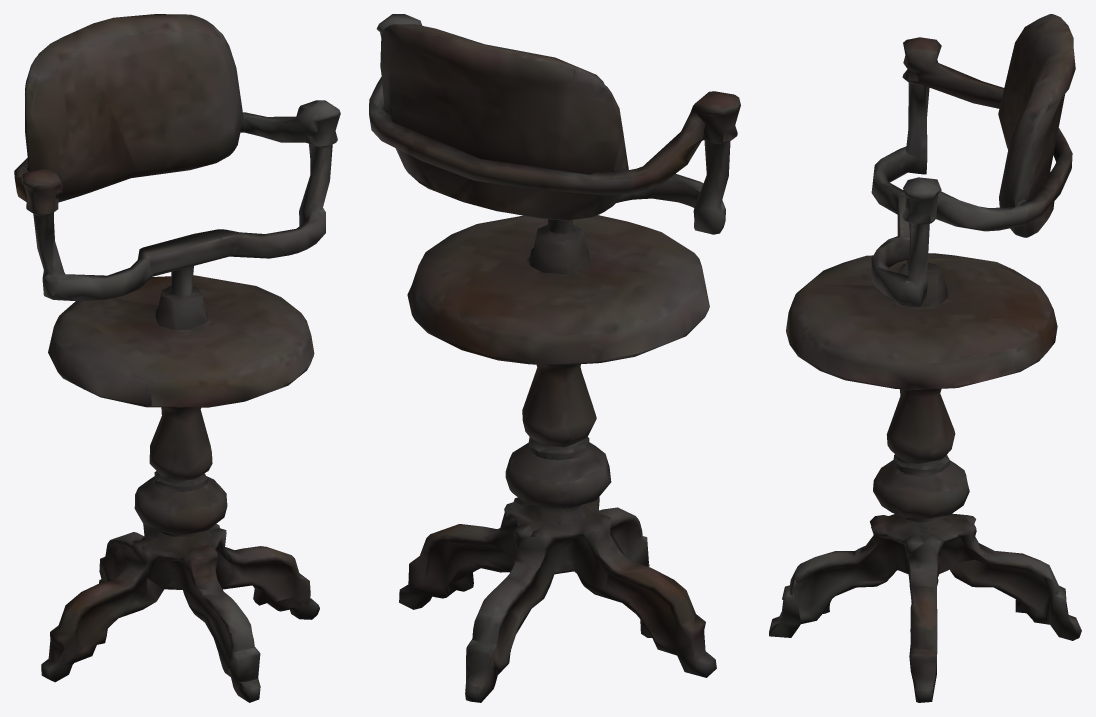
Rendered from ornate-iron-examination-chair-v001.glb.
3 renders of one model, left to right at view 1: azimuth 30°, elevation 25°; view 2: azimuth 150°, elevation 25°; view 3: azimuth 270°, elevation 25°, orthographic. The views are drawn at different scales.
Parts seen in each view (by area): view 1: ornate-iron-examination-chair; view 2: ornate-iron-examination-chair; view 3: ornate-iron-examination-chair.
Part boxes in pixels (x1,y1,x2,y2): ornate-iron-examination-chair: [14, 14, 340, 702]; ornate-iron-examination-chair: [369, 14, 740, 702]; ornate-iron-examination-chair: [769, 14, 1081, 702].
Size of the model in its own units: 0.6774 by 1.19 by 0.5674.
1 material, 1 textured.
